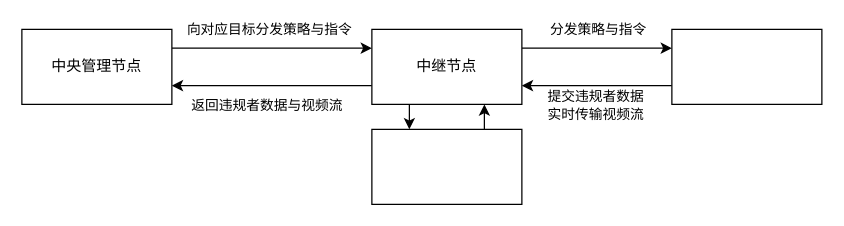
The diagram is 844 pixels wide and 226 high, and some of its shapes have lost their labels. Each missing label, with the centre of its shape:
监控子节点: (x=746, y=66)
静态路由表（寻址）: (x=446, y=166)
